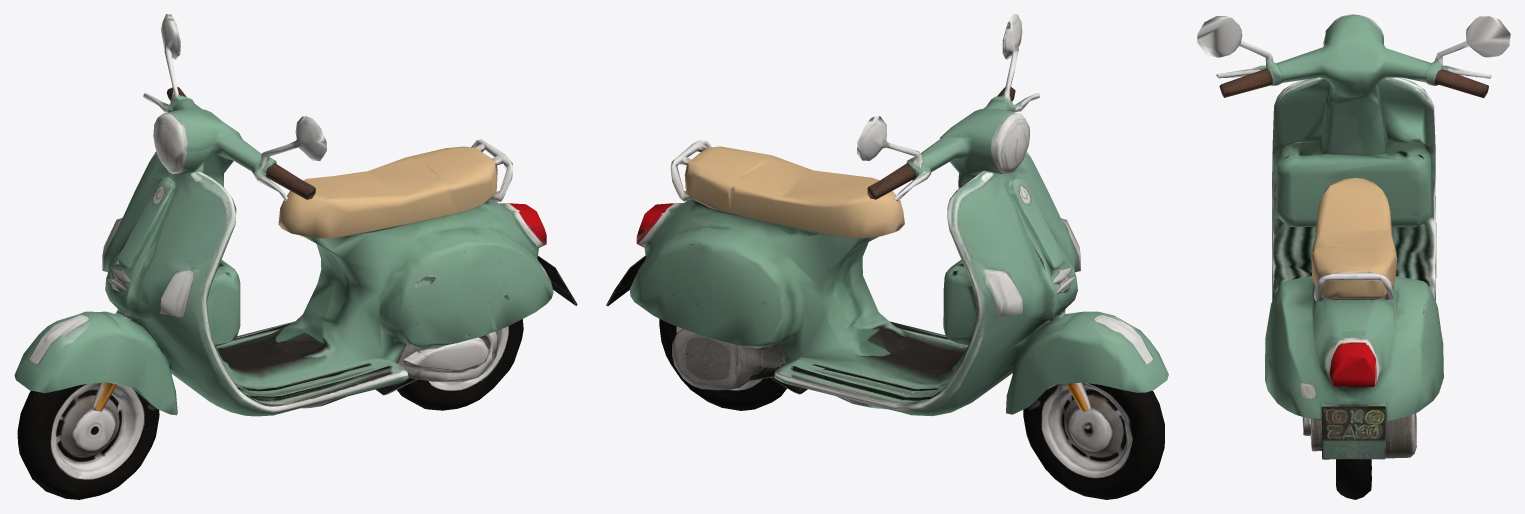
The model's file is token-vespa.glb.
3 renders of one model, left to right at view 1: azimuth 30°, elevation 25°; view 2: azimuth 150°, elevation 25°; view 3: azimuth 270°, elevation 25°, orthographic. The views are drawn at different scales.
Size of the model in its own units: 1.9 by 1.32 by 0.99.
1 material, 1 textured.
